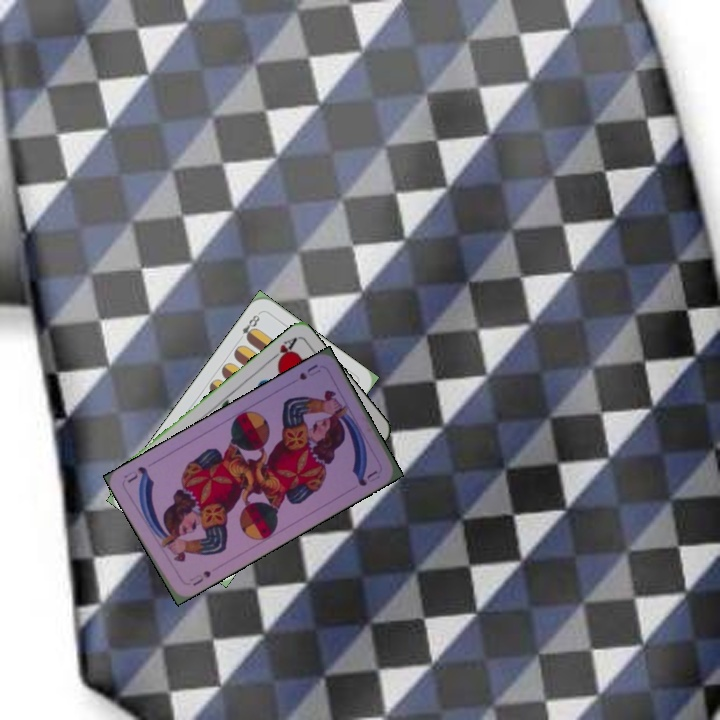E8: (234, 309, 263, 344)
HA: (265, 334, 299, 367)
SU: (295, 360, 323, 383), (188, 566, 214, 589)
